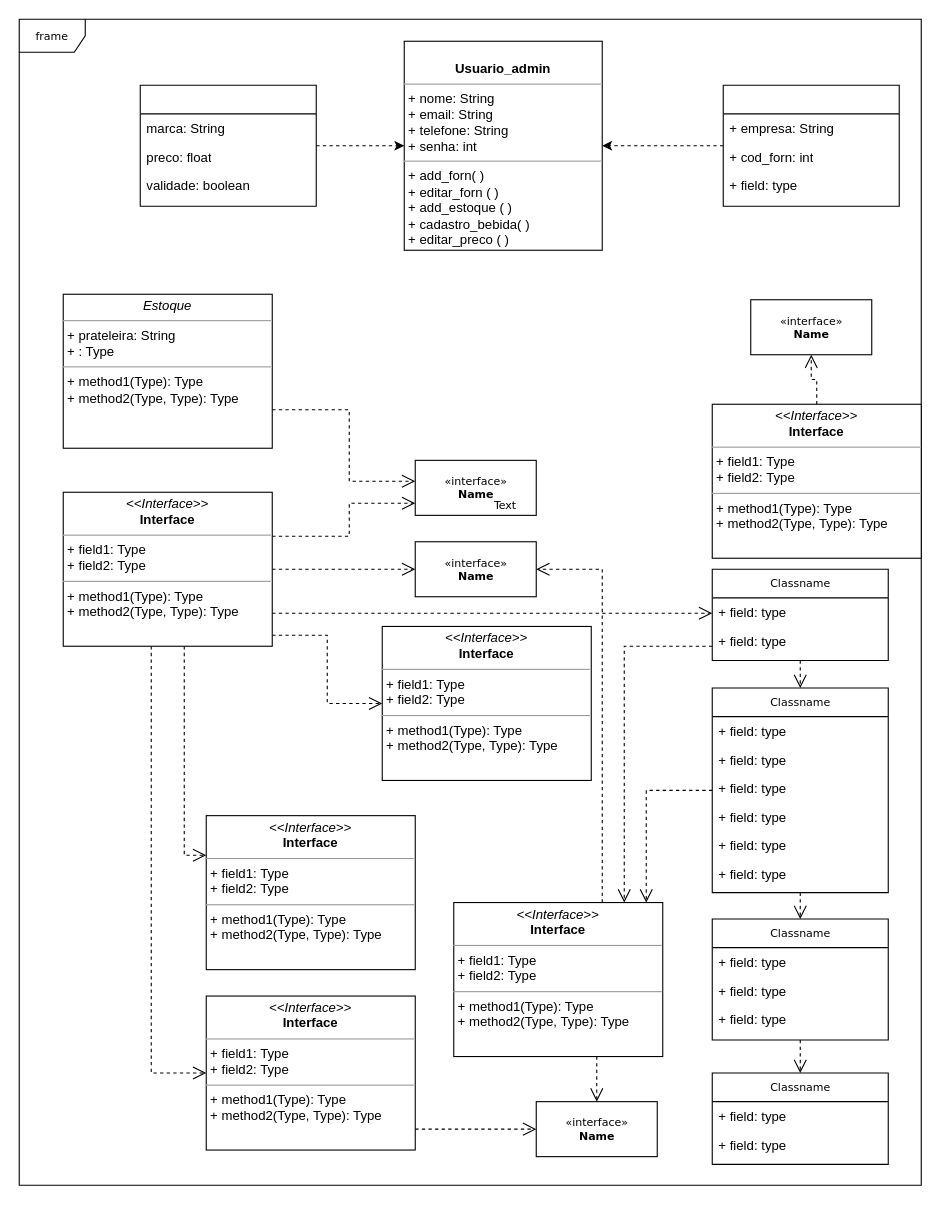
This 941x1205 diagram has some shape labels left out. The shapes that lost their labels are listed below. From the top down, each one's box as (x1, y1, x2, y2) in pixels, then its label:
(139, 84, 316, 206): Class Bebida
(722, 84, 899, 206): Fornecedor
